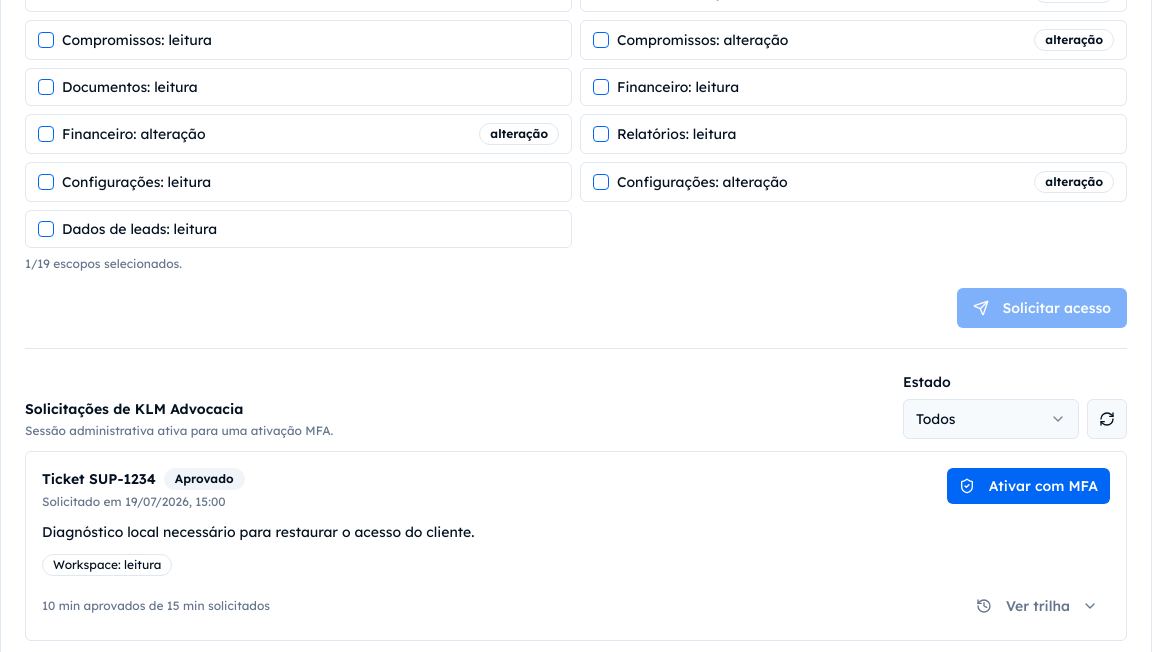
Test: PlatformSupportAccessPanel › activates with MFA without exposing the bearer outside the memory-only session vault
Later steps or results of the test are not shown.
(page scrolled)
Click the button "Ativar com MFA".
click(1028, 486)  # box [947,468,1110,504]
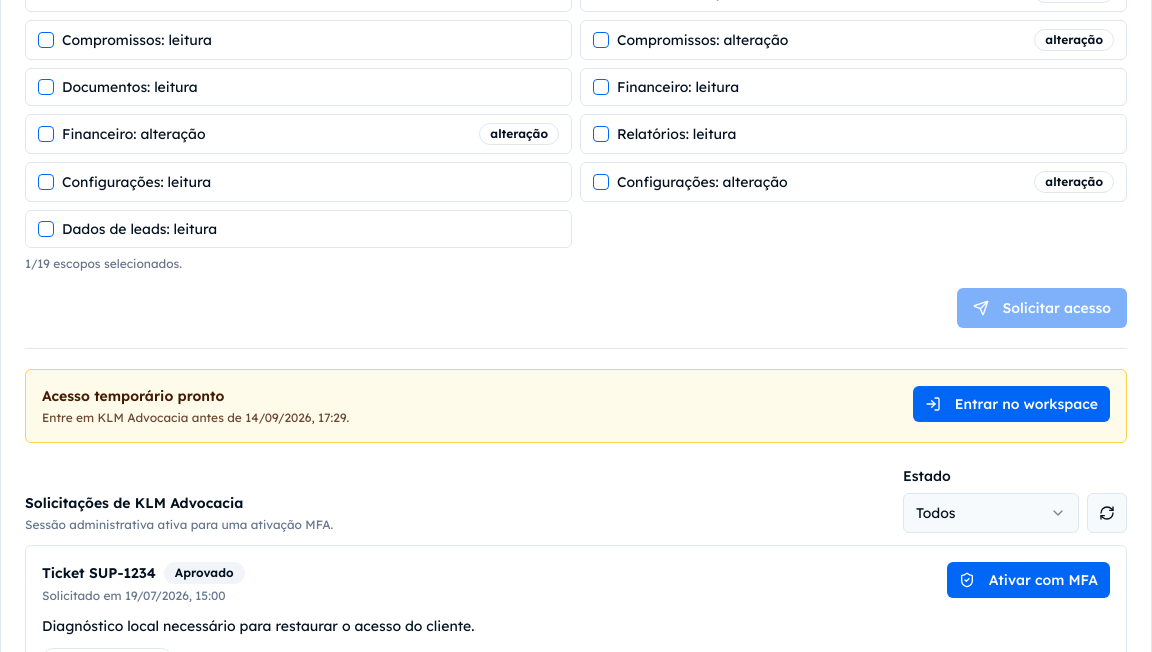
Expected: the element with test id "support-access-ready" shows "Acesso temporário pronto", [42,387,224,405]
